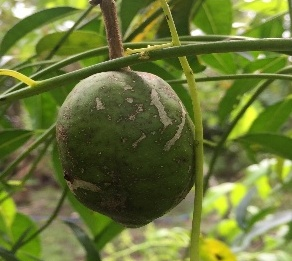Coc: (54, 71, 197, 224)
